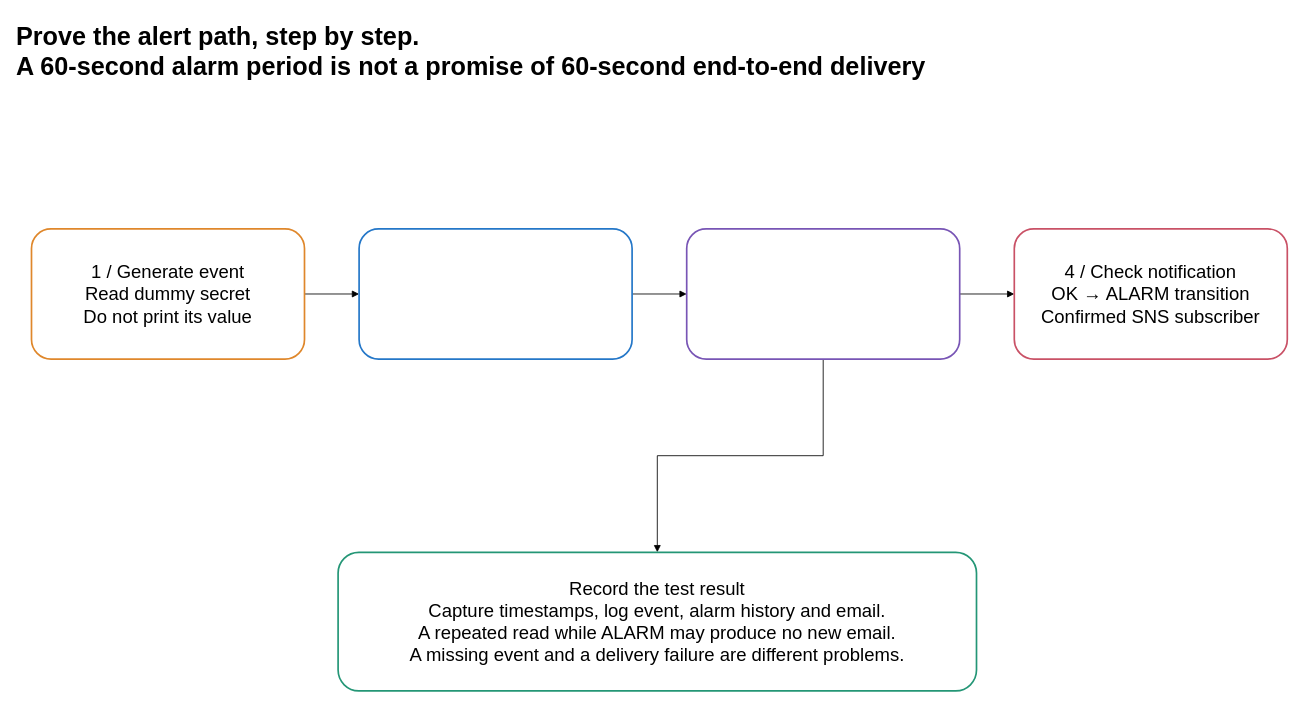
This 1314x706 diagram has some shape labels left out. Here are the shapes that lost their labels. From the top down, the centre of each, then its label:
the point at 495,294: 2 / Find audit event GetSecretValue Check errorCode + identity
the point at 822,294: 3 / Check metric Successful or denied count Sum, not Average
